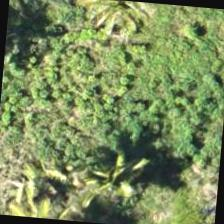Kelapa_Sawit: (64, 133, 163, 223), (69, 0, 164, 56)
